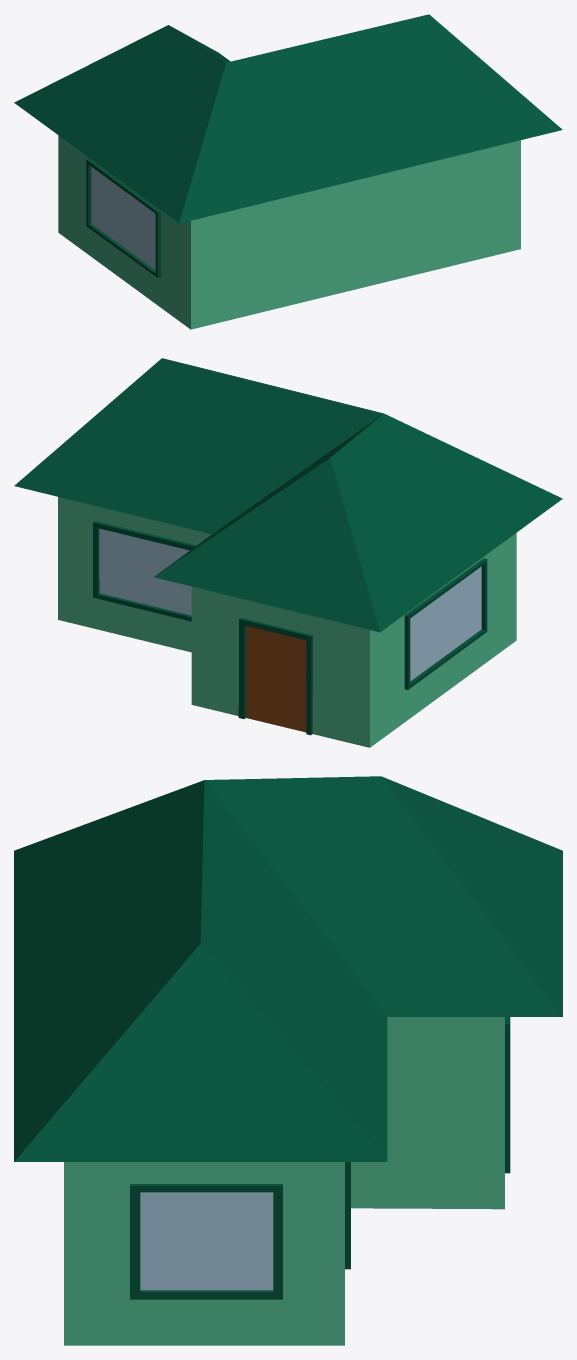
File: green corner building.fbx
The picture shows the model from 3 angles, top to bottom: view 1: azimuth 30°, elevation 25°; view 2: azimuth 150°, elevation 25°; view 3: azimuth 270°, elevation 25°; orthographic projection. The views are drawn at different scales.
Parts seen in each view (by area): view 1: Cube.001; view 2: Cube.001; view 3: Cube.001.
Part boxes in pixels (x1,y1,x2,y2): Cube.001: [14, 14, 562, 329]; Cube.001: [14, 358, 562, 747]; Cube.001: [14, 776, 562, 1345].
Bounding box in the file's own units: 6136 × 3323 × 4573.
